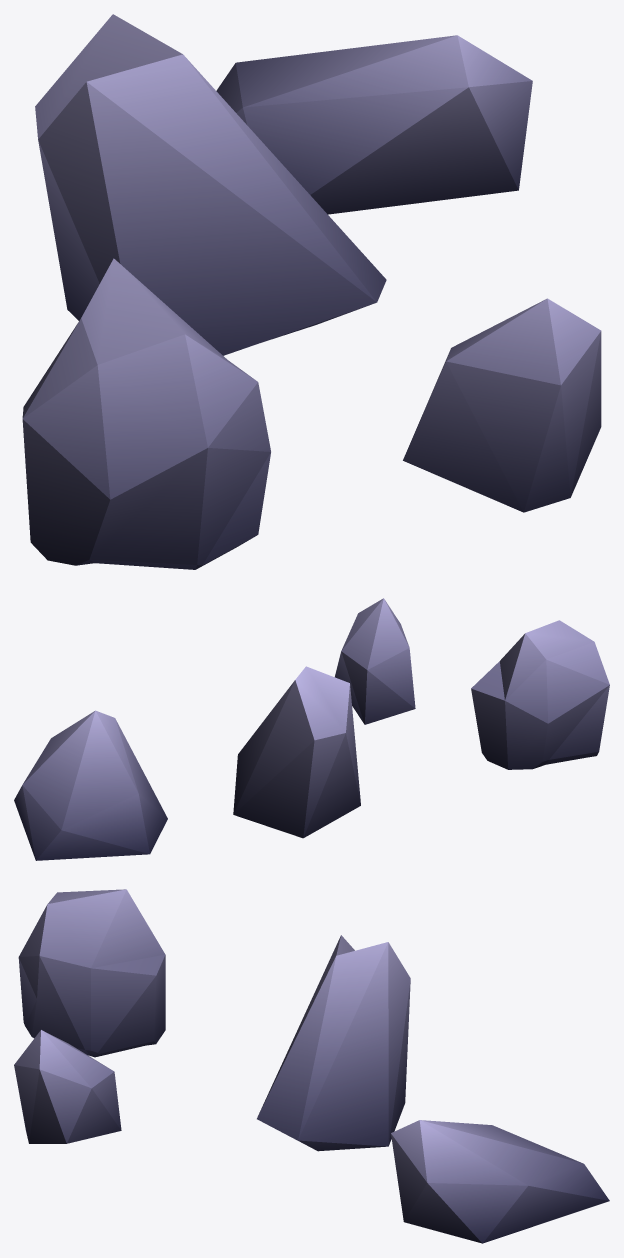
File: SmallRocks_Sanctuary.fbx
The picture shows the model from 3 angles, top to bottom: view 1: azimuth 30°, elevation 25°; view 2: azimuth 150°, elevation 25°; view 3: azimuth 270°, elevation 25°; orthographic projection. The views are drawn at different scales.
Visible parts, largest first — view 1: BigRock.001, Cube.003, MediumRock.001, SmallRock.001; view 2: MediumRock.001, BigRock.001, Cube.003, SmallRock.001; view 3: BigRock.001, Cube.003, MediumRock.001, SmallRock.001.
Part boxes in pixels (<box>): BigRock.001: <box>35,14,386,355</box>; Cube.003: <box>22,258,270,569</box>; MediumRock.001: <box>216,35,532,214</box>; SmallRock.001: <box>403,298,601,512</box>; MediumRock.001: <box>14,710,167,860</box>; BigRock.001: <box>233,666,360,838</box>; Cube.003: <box>471,620,609,769</box>; SmallRock.001: <box>335,598,415,724</box>; BigRock.001: <box>257,935,410,1151</box>; Cube.003: <box>18,889,165,1057</box>; MediumRock.001: <box>391,1120,609,1243</box>; SmallRock.001: <box>14,1030,121,1143</box>.
Size of the model in its own units: 862 by 294 by 933.
Materials: 1 (1 with a texture image).
